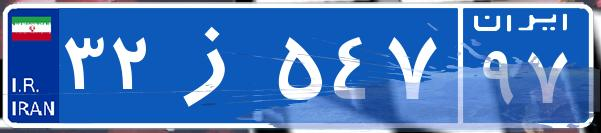2: (110, 28, 158, 105)
3: (57, 26, 110, 107)
4: (330, 28, 385, 110)
5: (273, 28, 330, 110)
7: (385, 28, 445, 110), (525, 38, 570, 115)
9: (475, 38, 525, 113)
ز: (158, 15, 273, 115)
